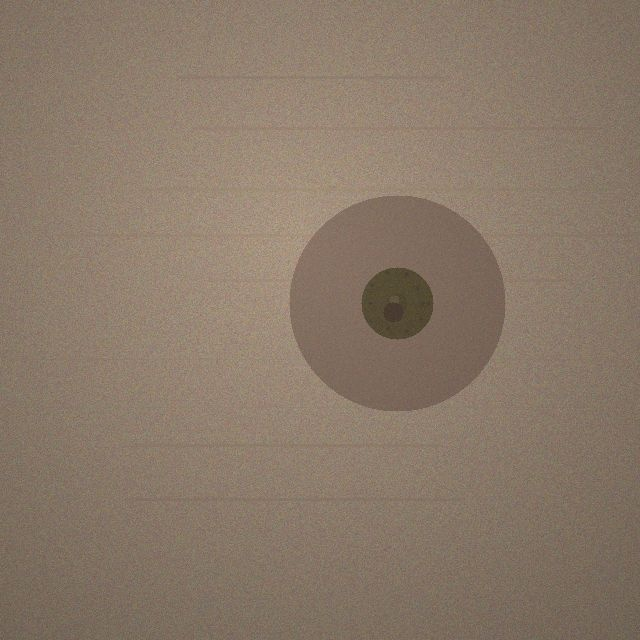cold_weld: (289, 195, 505, 411)
